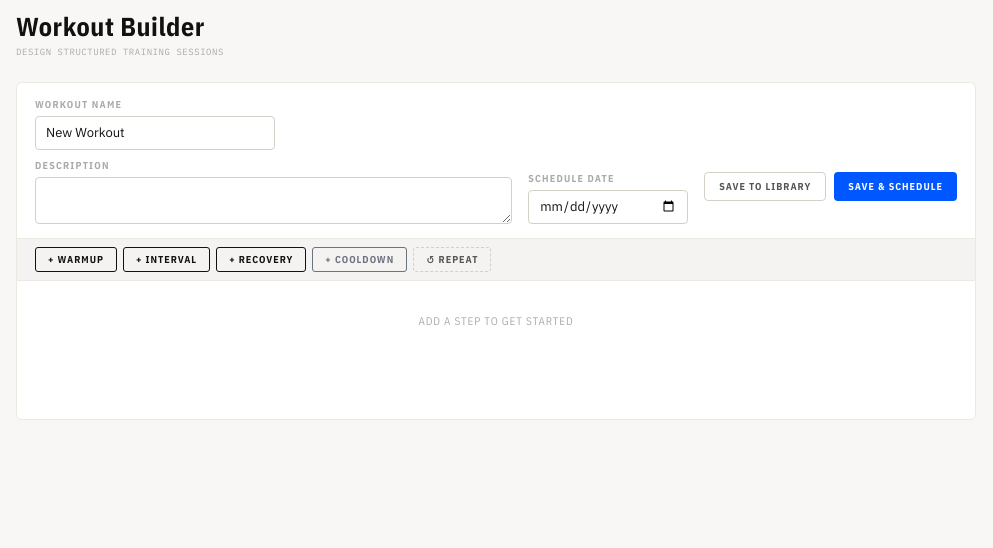
test_add_steps_inside_repeat › add interval inside repeat group → step shown inside group
Click the button "↺ Repeat": click(452, 259) [413,247,491,272]
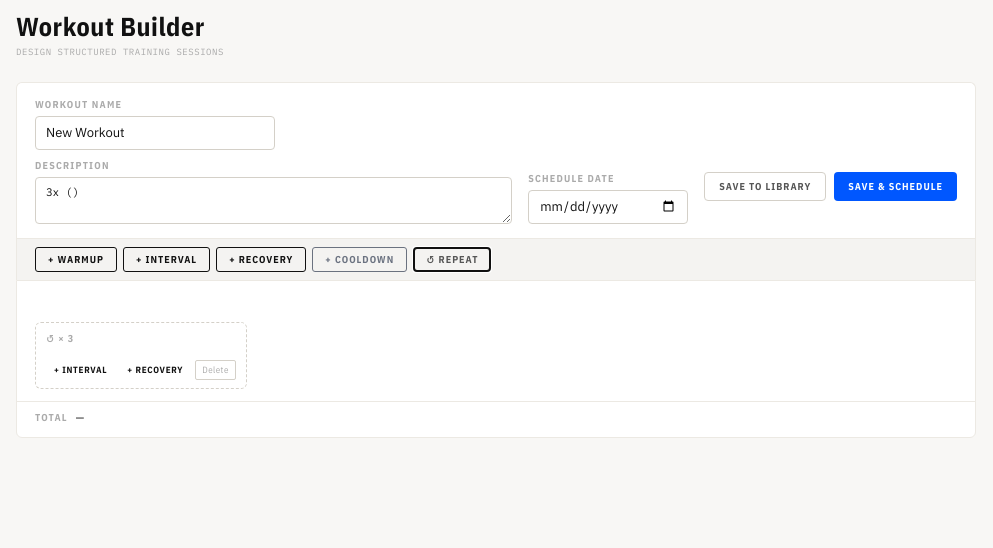
Click the button with aria-label "add interval to repeat": click(81, 370) [46,360,115,380]
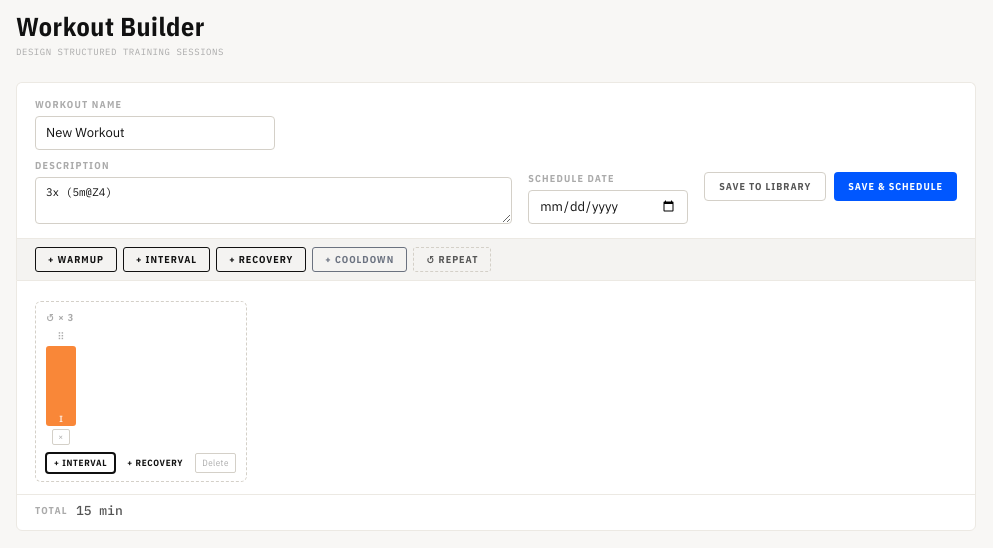
expect the element with test id "repeat-step-" is shown: met, box [46,331,76,445]
